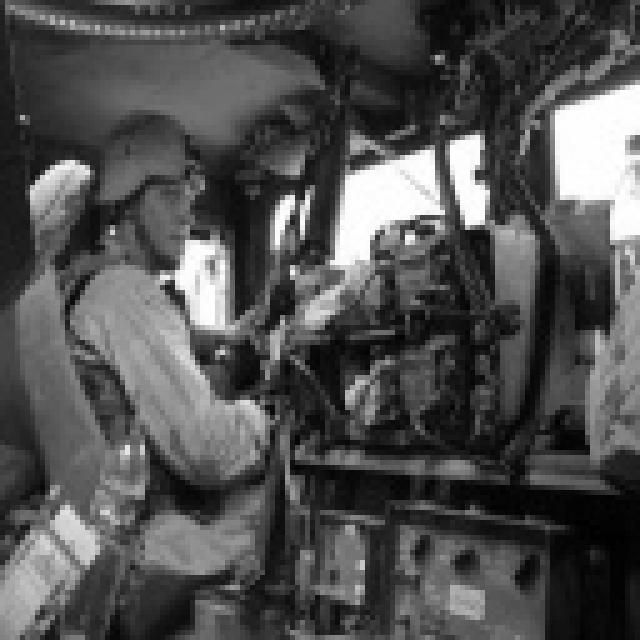Rifle: (178, 244, 486, 471)
